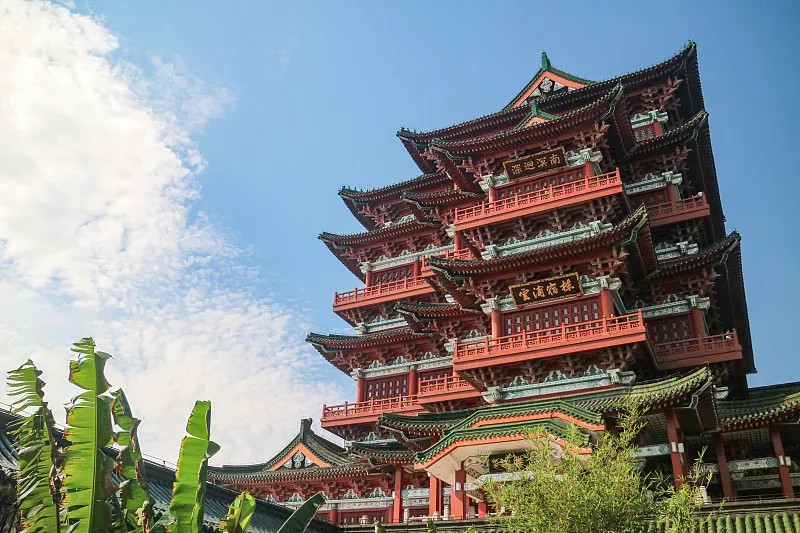Teng: (305, 41, 800, 516)
